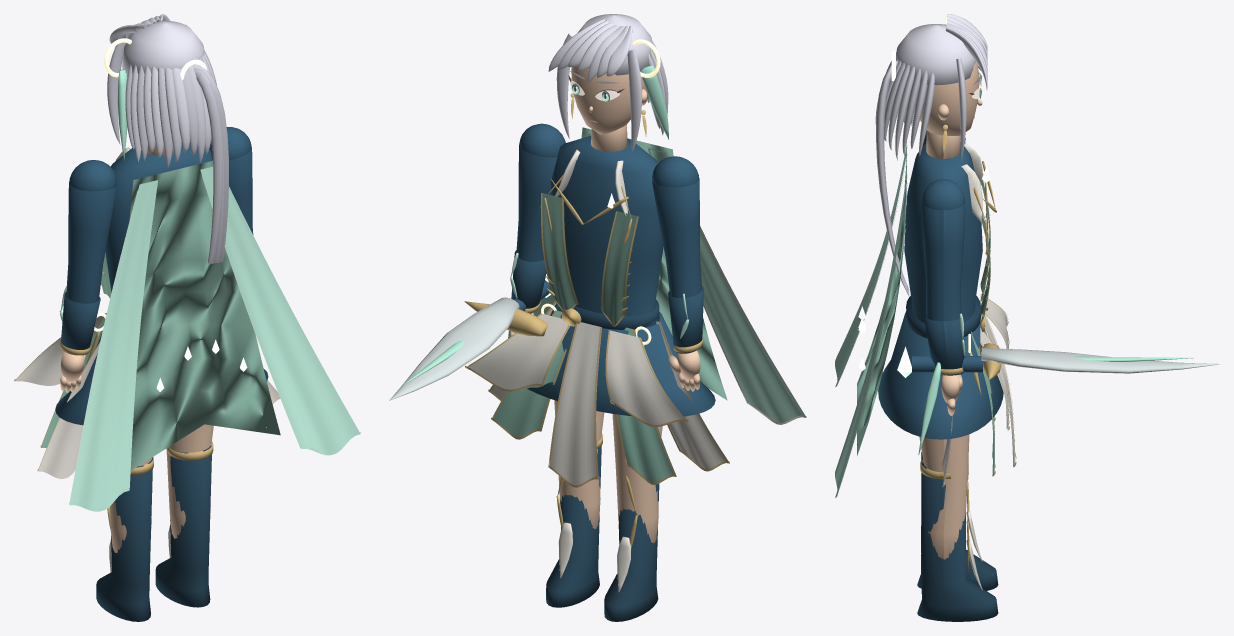
The model's file is character_05.glb.
3 views of the same model, side by side, from view 1: azimuth 30°, elevation 25°; view 2: azimuth 150°, elevation 25°; view 3: azimuth 270°, elevation 25° (orthographic).
Visible parts, largest first — view 1: _MeshInstance3D_1626, _MeshInstance3D_1627, _MeshInstance3D_1629, _MeshInstance3D_1668, _MeshInstance3D_1643, _MeshInstance3D_1637, _MeshInstance3D_1634, _MeshInstance3D_1600, _MeshInstance3D_1669, _MeshInstance3D_1670, _MeshInstance3D_1616, _MeshInstance3D_1646 (+7 smaller); view 2: _MeshInstance3D_1600, _MeshInstance3D_1627, _MeshInstance3D_1620, _MeshInstance3D_1637, _MeshInstance3D_1668, _MeshInstance3D_1646, _MeshInstance3D_1604, _MeshInstance3D_1643, _MeshInstance3D_1649, _MeshInstance3D_1634, _MeshInstance3D_1606, _MeshInstance3D_1655 (+22 smaller); view 3: _MeshInstance3D_1600, _MeshInstance3D_1646, _MeshInstance3D_1668, _MeshInstance3D_1643, _MeshInstance3D_1642, _MeshInstance3D_1649, _MeshInstance3D_1626, _MeshInstance3D_1655, _MeshInstance3D_1629, _MeshInstance3D_1647, _MeshInstance3D_1674, _MeshInstance3D_1627 (+10 smaller).
Part boxes in pixels (box(x1,y1,x2,y2)): _MeshInstance3D_1626: box(129, 161, 280, 470); _MeshInstance3D_1627: box(69, 180, 158, 511); _MeshInstance3D_1629: box(200, 166, 360, 455); _MeshInstance3D_1668: box(107, 14, 223, 264); _MeshInstance3D_1643: box(155, 445, 211, 607); _MeshInstance3D_1637: box(66, 160, 116, 355); _MeshInstance3D_1634: box(96, 457, 152, 621); _MeshInstance3D_1600: box(55, 143, 268, 425); _MeshInstance3D_1669: box(125, 54, 212, 163); _MeshInstance3D_1670: box(136, 50, 216, 167); _MeshInstance3D_1616: box(38, 343, 99, 478); _MeshInstance3D_1646: box(209, 127, 253, 234); _MeshInstance3D_1600: box(527, 135, 715, 416); _MeshInstance3D_1627: box(648, 148, 805, 422); _MeshInstance3D_1620: box(550, 322, 601, 485); _MeshInstance3D_1637: box(652, 156, 702, 353); _MeshInstance3D_1668: box(548, 14, 665, 153); _MeshInstance3D_1646: box(513, 123, 565, 313); _MeshInstance3D_1604: box(607, 330, 686, 425); _MeshInstance3D_1643: box(546, 446, 601, 607); _MeshInstance3D_1649: box(389, 297, 519, 400); _MeshInstance3D_1634: box(604, 484, 659, 621); _MeshInstance3D_1606: box(468, 313, 569, 389); _MeshInstance3D_1655: box(571, 65, 647, 134); _MeshInstance3D_1600: box(878, 143, 1003, 439); _MeshInstance3D_1646: box(912, 179, 982, 375); _MeshInstance3D_1668: box(878, 14, 987, 294); _MeshInstance3D_1643: box(917, 462, 998, 621); _MeshInstance3D_1642: box(919, 434, 969, 559); _MeshInstance3D_1649: box(981, 347, 1219, 373); _MeshInstance3D_1626: box(857, 141, 906, 455); _MeshInstance3D_1655: box(914, 62, 982, 135); _MeshInstance3D_1629: box(835, 176, 906, 497); _MeshInstance3D_1647: box(924, 314, 964, 369); _MeshInstance3D_1674: box(876, 60, 909, 297); _MeshInstance3D_1627: box(835, 146, 906, 386).
Size of the model in its own units: 1.26 by 2.42 by 1.47.
